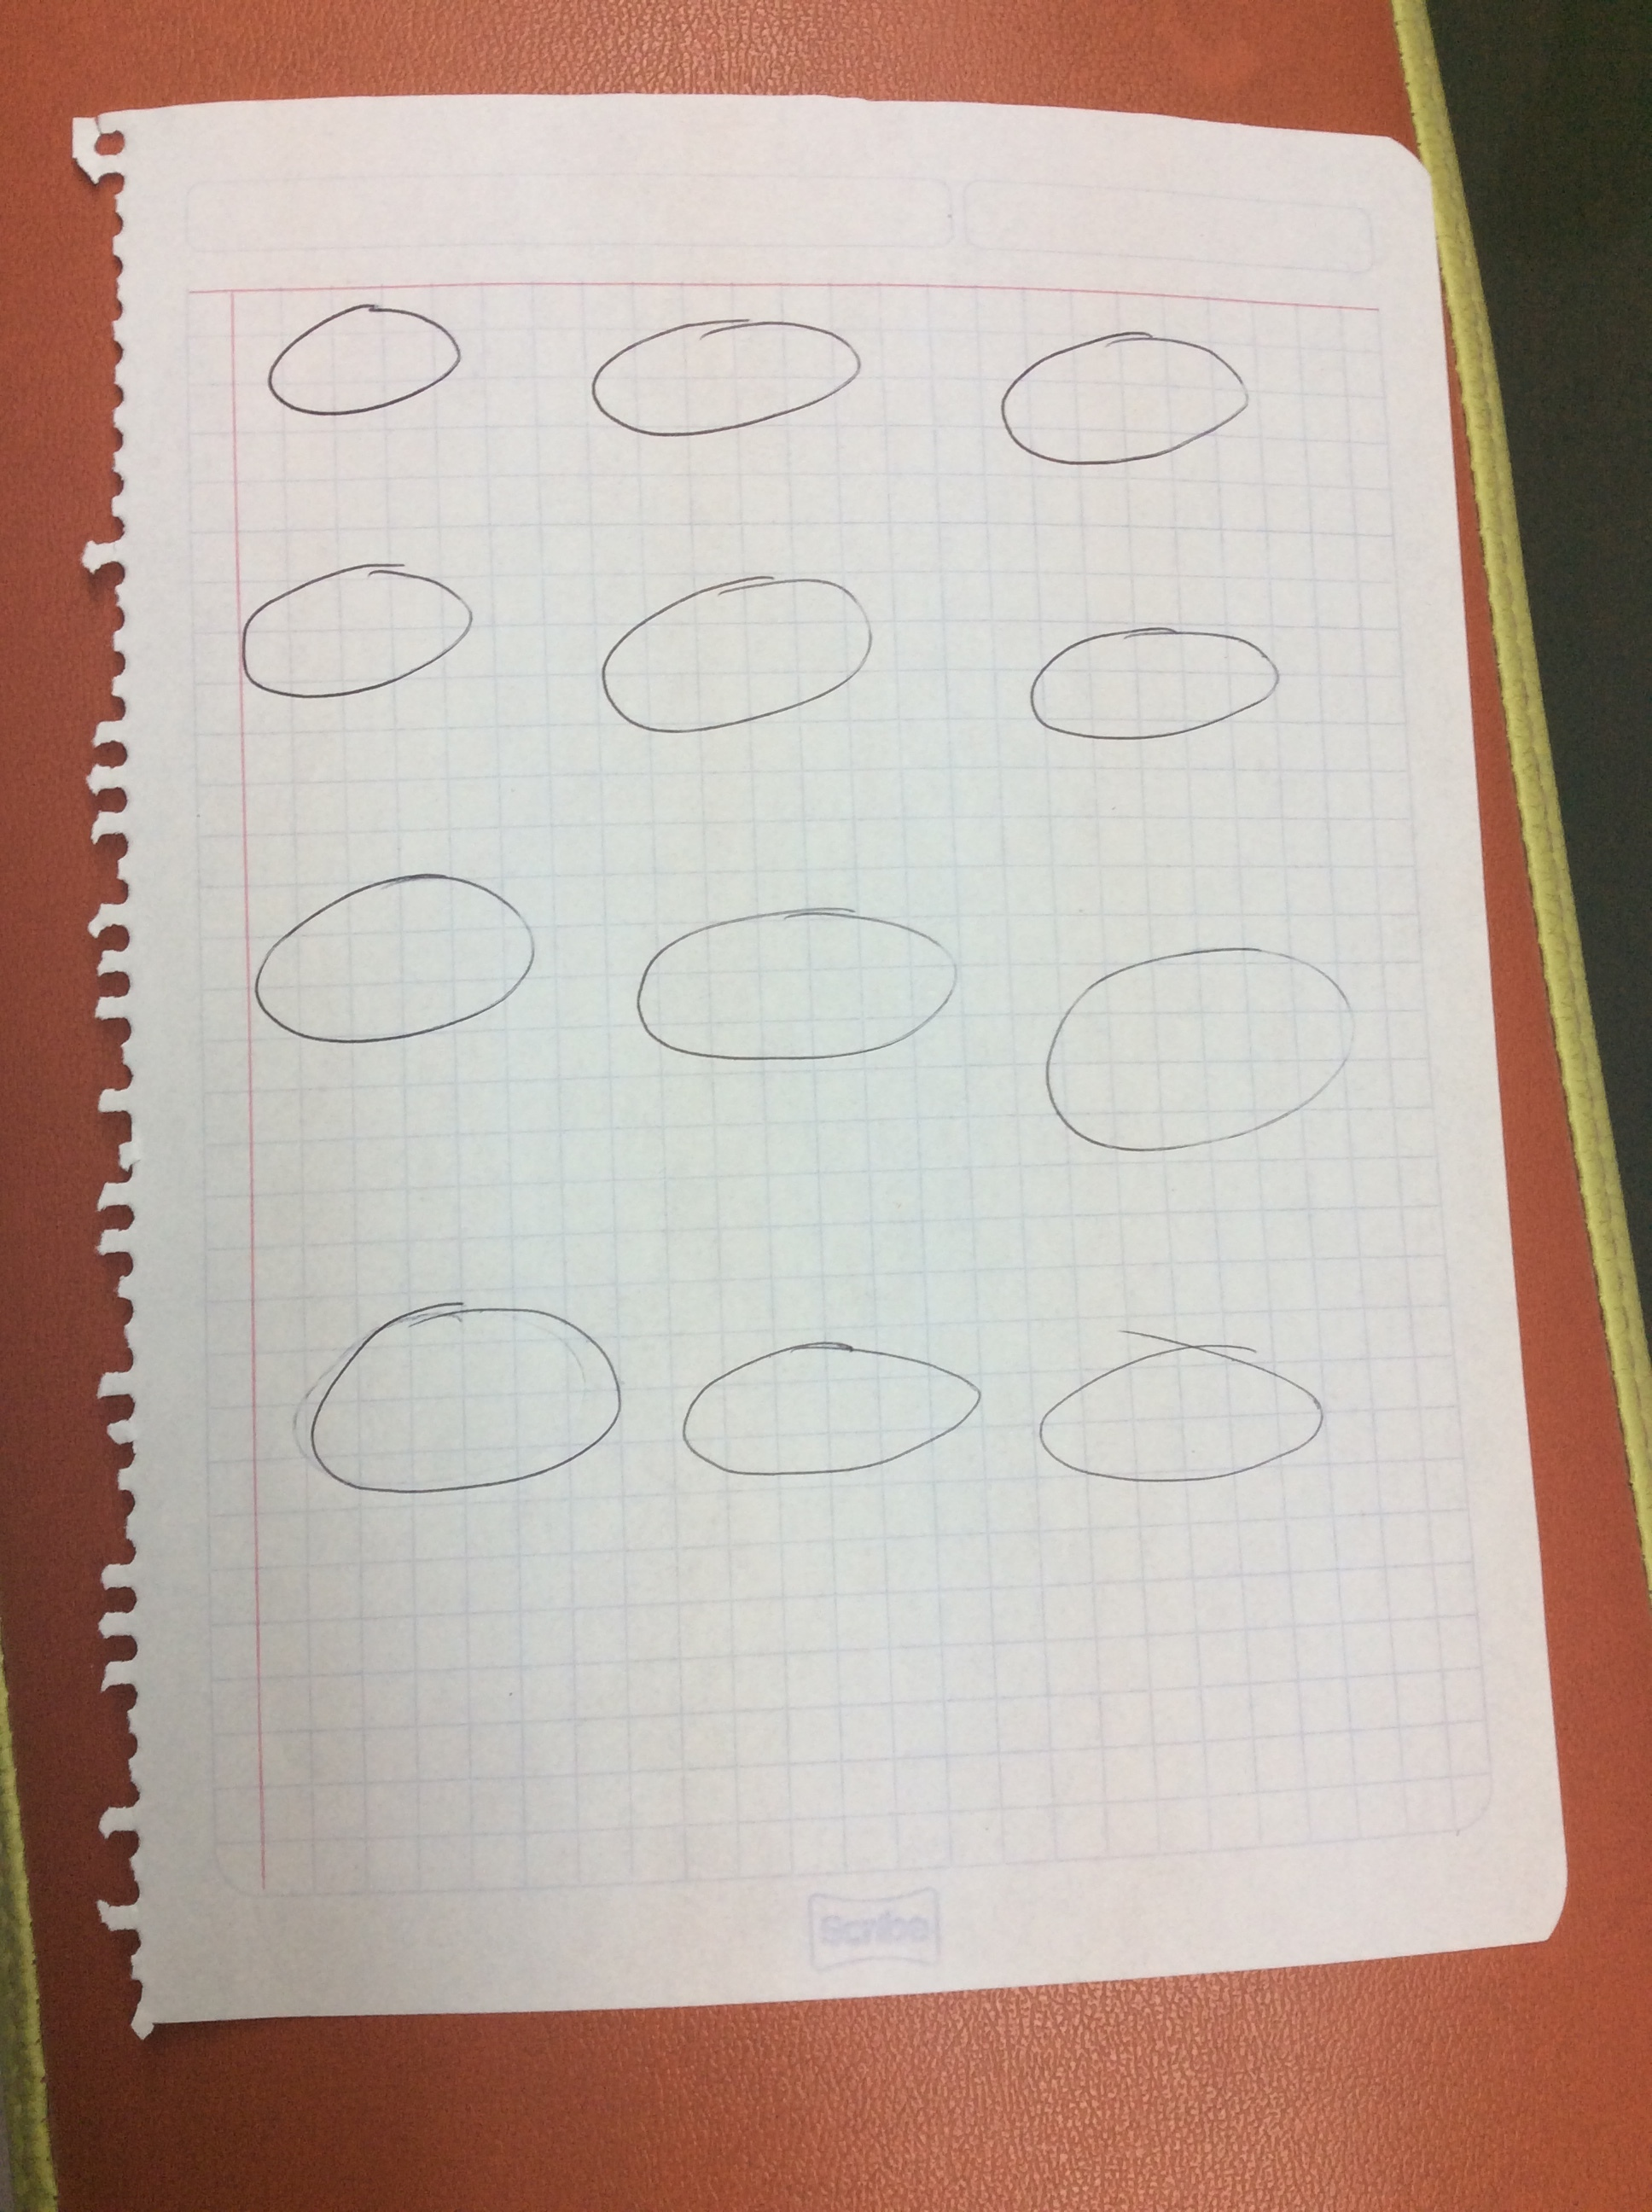start_end: (1022, 928, 1393, 1175), (259, 1284, 633, 1516), (609, 874, 979, 1086), (1012, 1294, 1364, 1509), (217, 854, 548, 1072), (665, 1308, 998, 1509), (581, 550, 902, 758), (987, 593, 1319, 782), (980, 307, 1282, 491), (200, 550, 514, 720), (567, 300, 892, 458), (234, 290, 489, 444)
